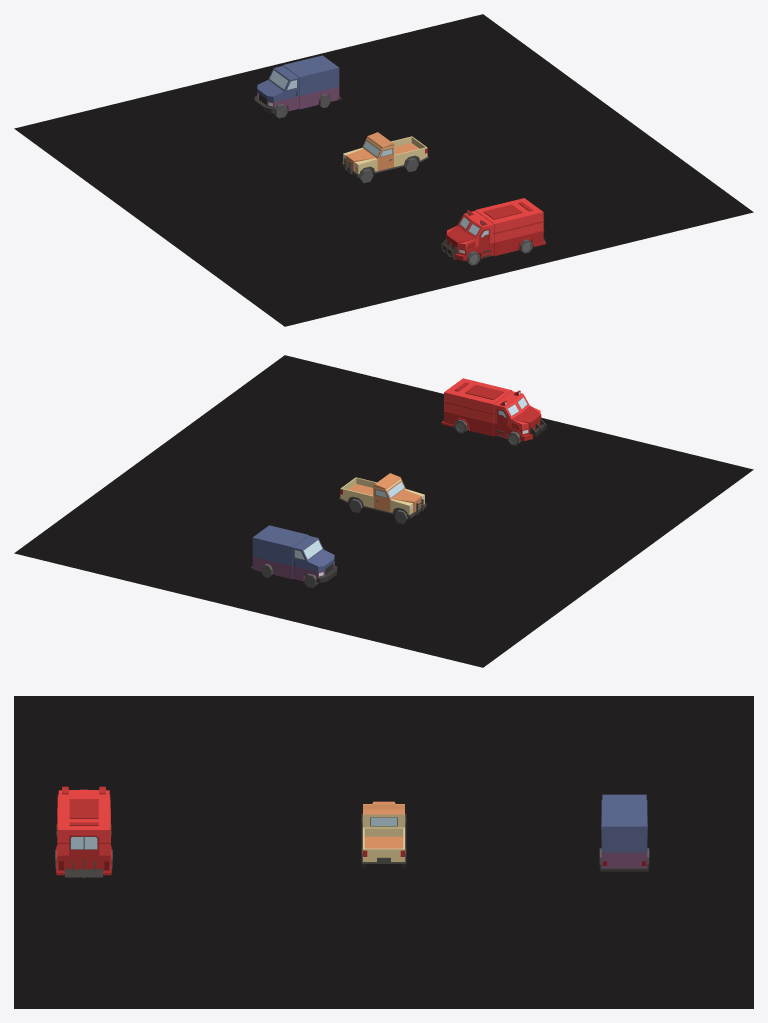
File: Tile 19_Combined.fbx
The picture shows the model from 3 angles, top to bottom: view 1: azimuth 30°, elevation 25°; view 2: azimuth 150°, elevation 25°; view 3: azimuth 270°, elevation 25°; orthographic projection. The views are drawn at different scales.
Visible parts, largest first — view 1: MeshBaker_Cluster_0_mesh_mesh; view 2: MeshBaker_Cluster_0_mesh_mesh; view 3: MeshBaker_Cluster_0_mesh_mesh.
Boxes of the visible parts, <box> form: MeshBaker_Cluster_0_mesh_mesh: <box>14,14,753,326</box>; MeshBaker_Cluster_0_mesh_mesh: <box>14,355,753,667</box>; MeshBaker_Cluster_0_mesh_mesh: <box>14,696,753,1008</box>.
Size of the model in its own units: 3000 by 239 by 3000.
